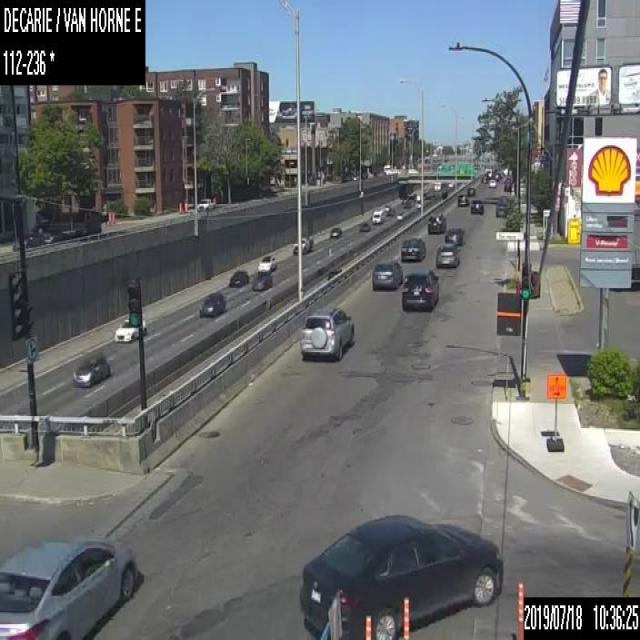construction: (544, 369, 566, 450), (516, 581, 523, 639), (400, 598, 410, 638), (363, 617, 371, 639), (107, 212, 111, 226), (178, 201, 182, 213), (183, 201, 187, 212), (111, 212, 114, 224)
vehicle: (298, 511, 504, 638), (0, 541, 135, 638), (300, 305, 354, 359), (400, 270, 439, 306), (71, 355, 110, 385), (371, 259, 402, 288), (113, 316, 144, 341), (198, 289, 225, 316), (400, 236, 425, 260), (436, 242, 459, 267), (12, 231, 42, 249), (444, 225, 465, 245), (291, 235, 312, 254), (428, 212, 446, 232), (196, 194, 218, 210), (252, 270, 271, 288), (258, 255, 276, 271), (229, 269, 247, 284), (495, 200, 508, 216), (470, 199, 483, 214), (372, 207, 384, 223), (327, 267, 341, 280), (363, 618, 371, 638), (456, 193, 468, 205), (329, 226, 340, 237), (502, 179, 512, 191), (358, 221, 369, 230), (396, 210, 405, 220), (487, 178, 496, 187), (433, 181, 441, 190), (466, 186, 475, 194), (481, 175, 487, 182), (492, 173, 498, 180)
